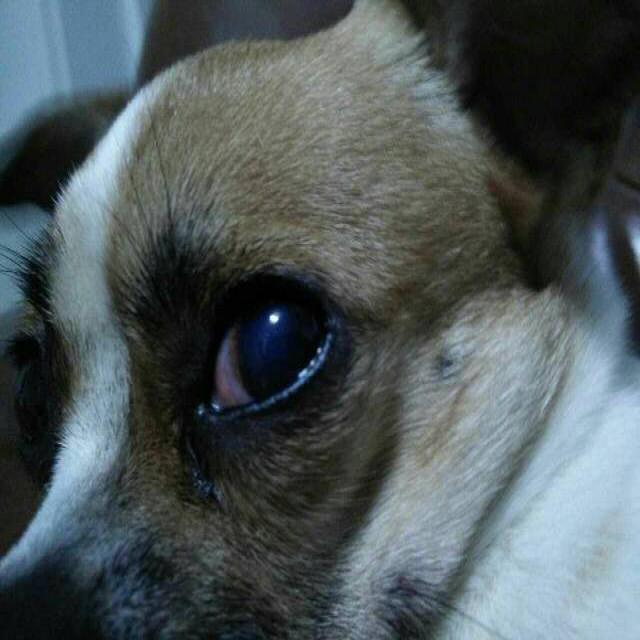eye: (186, 257, 348, 431)
